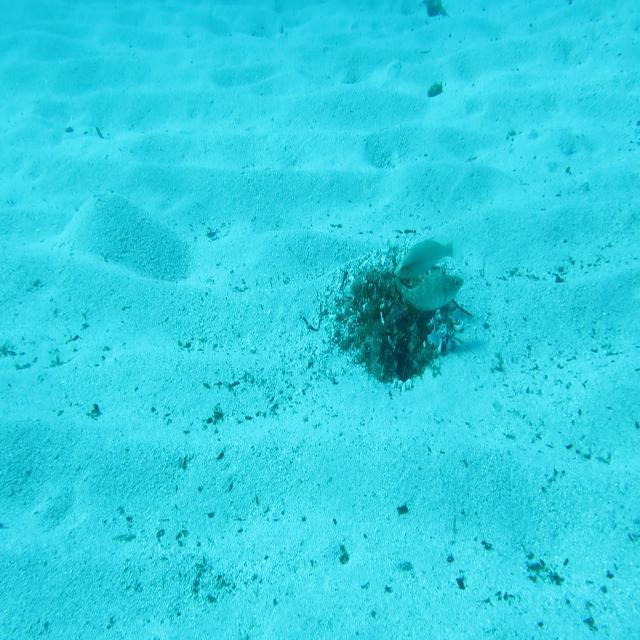BEND: (391, 268, 466, 316)
female: (393, 236, 464, 284)
nest: (330, 234, 475, 390)
